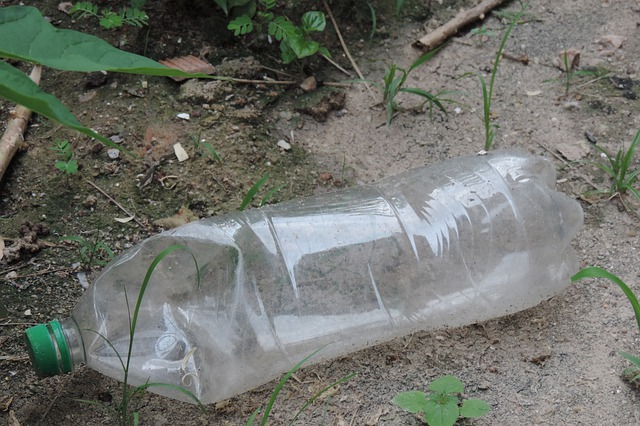plastic_bottle: (21, 149, 587, 408)
